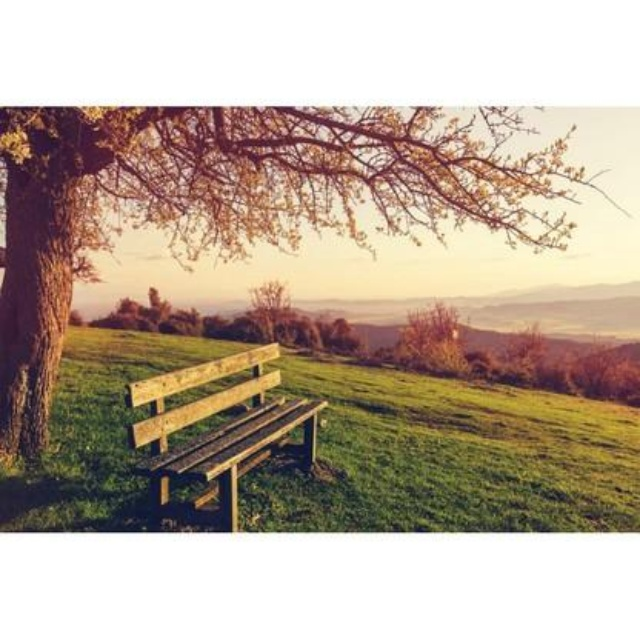obstacle: (117, 320, 332, 523)
